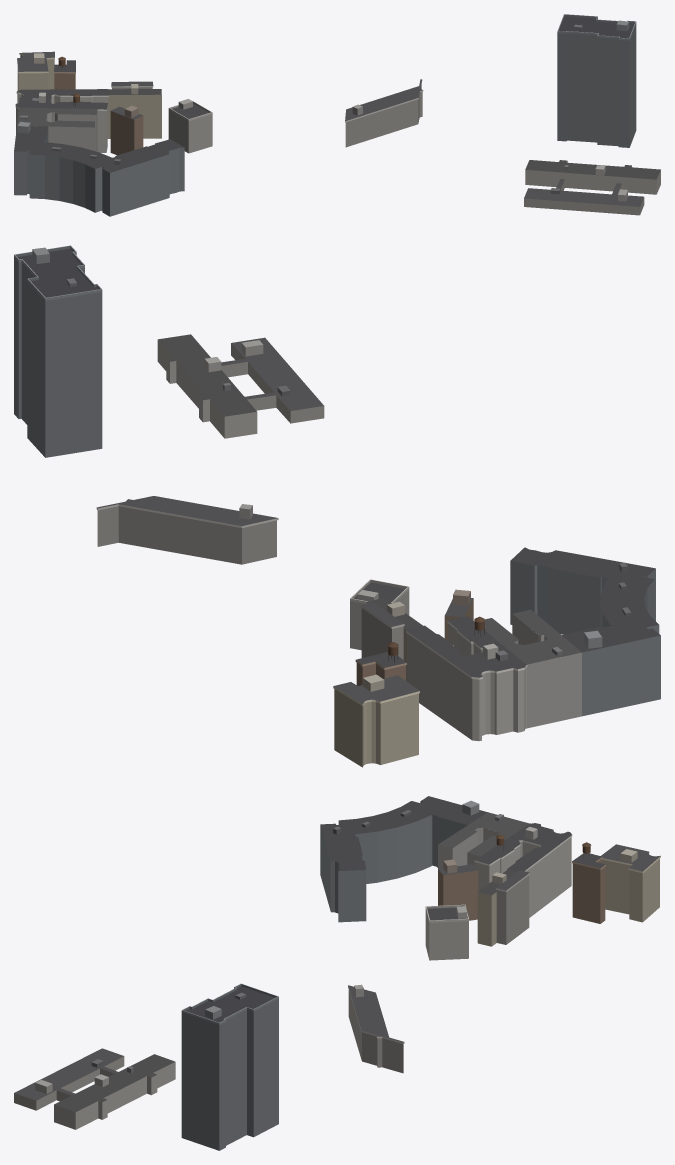
Rendered from 11_5.bld.glb.
3 views of the same model, one above another, from view 1: azimuth 30°, elevation 25°; view 2: azimuth 150°, elevation 25°; view 3: azimuth 270°, elevation 25° (orthographic). The views are drawn at different scales.
Visible parts, largest first — view 1: 11_5; view 2: 11_5; view 3: 11_5.
Boxes of the visible parts, left/top/right/bottom form: 11_5: left=14, top=14, right=660, bottom=216; 11_5: left=14, top=245, right=660, bottom=767; 11_5: left=14, top=796, right=660, bottom=1150.
Size of the model in its own units: 280 by 56.97 by 252.
